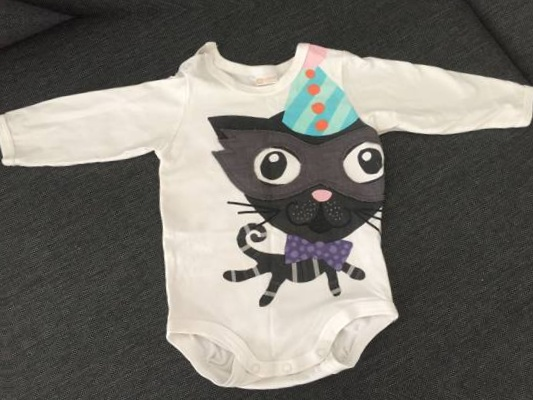Body: (0, 35, 533, 400), (20, 388, 533, 400)
